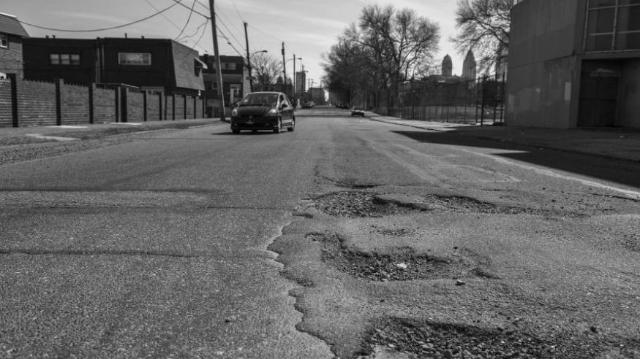Pothole: (305, 294, 623, 359), (296, 220, 524, 294), (418, 168, 588, 233), (303, 170, 427, 230)
